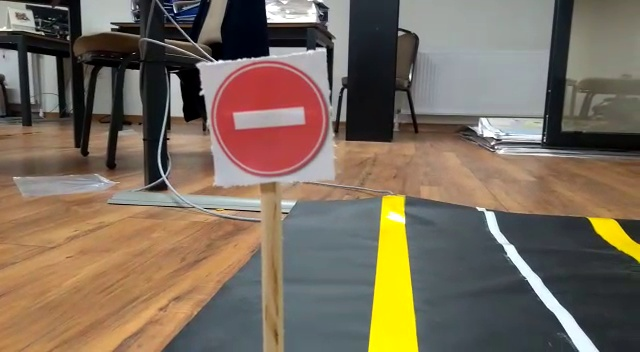girisi_olmayan_yol: (205, 54, 331, 182)
